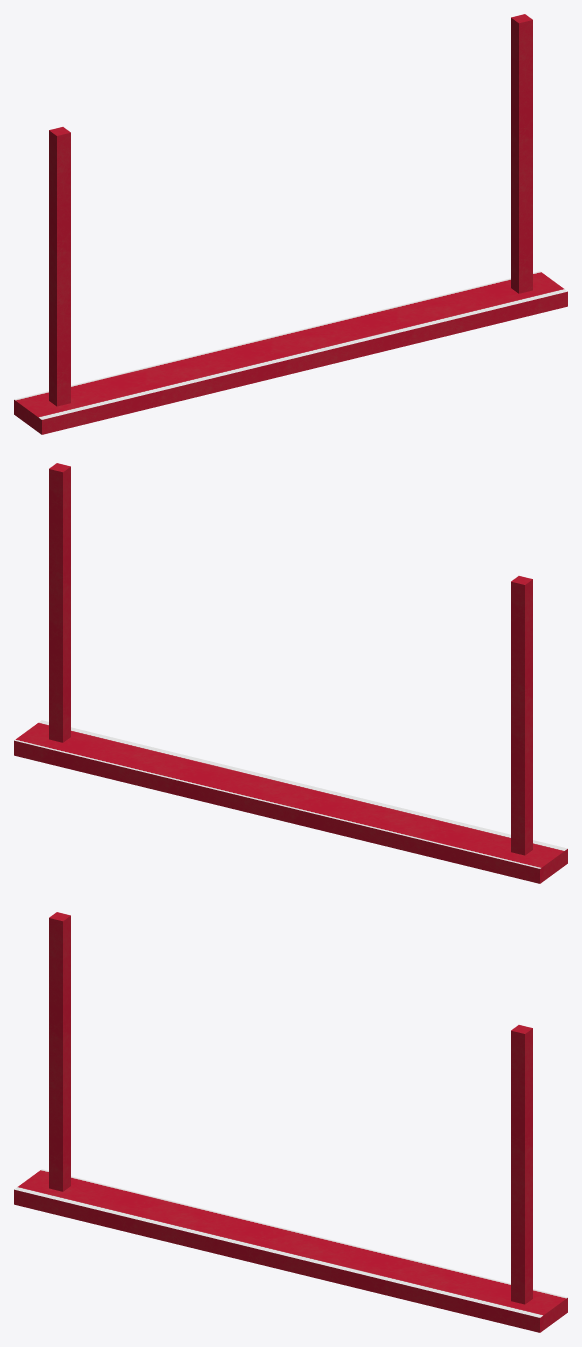
Rendered from Hanging_Light.fbx.
The picture shows the model from 3 angles, top to bottom: view 1: azimuth 30°, elevation 25°; view 2: azimuth 150°, elevation 25°; view 3: azimuth 330°, elevation 25°; orthographic projection.
Visible parts, largest first — view 1: Hanging_Light; view 2: Hanging_Light; view 3: Hanging_Light.
Boxes of the visible parts, x1,y1,x2,y2 form: Hanging_Light: (14, 14, 567, 434); Hanging_Light: (14, 463, 567, 883); Hanging_Light: (14, 912, 567, 1332).
Bounding box in the file's own units: 339 × 176 × 31.16.
